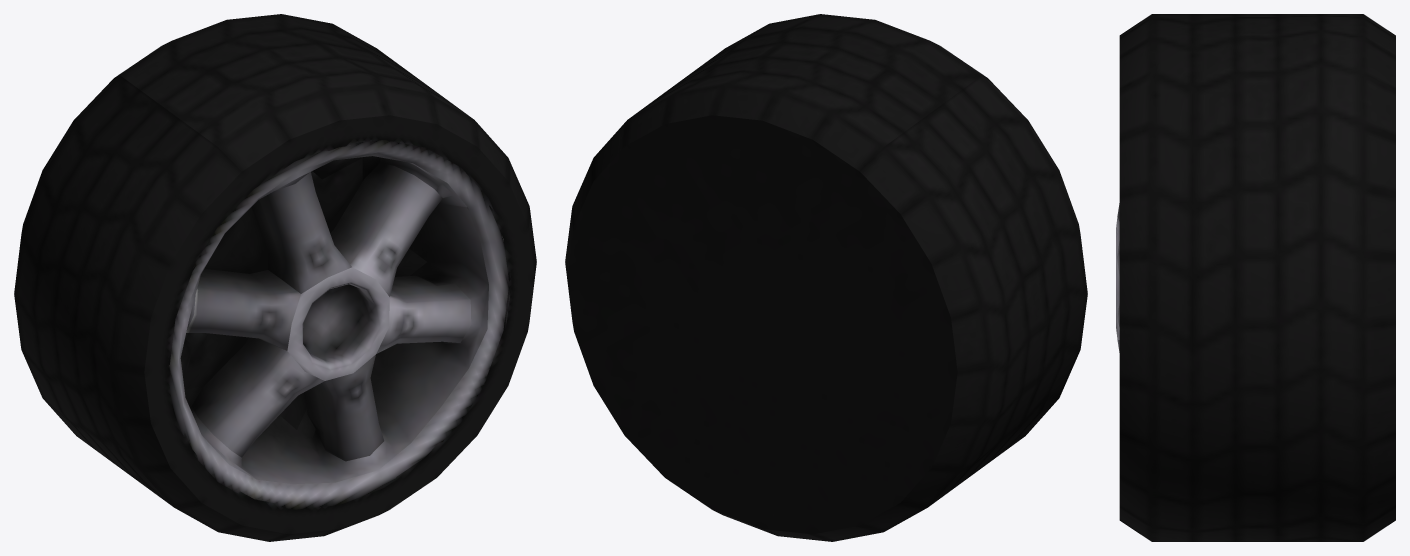
The model's file is wheel.fbx.
3 views of the same model, side by side, from view 1: azimuth 30°, elevation 25°; view 2: azimuth 150°, elevation 25°; view 3: azimuth 270°, elevation 25° (orthographic). The views are drawn at different scales.
Visible parts, largest first — view 1: Mesh11, Mesh12; view 2: Mesh11; view 3: Mesh11, Mesh12.
Boxes of the visible parts, box(x1,y1,x2,y2) form: Mesh11: box(14, 14, 536, 541); Mesh12: box(167, 140, 511, 509); Mesh11: box(565, 14, 1087, 541); Mesh11: box(1119, 14, 1395, 541); Mesh12: box(1116, 203, 1119, 352).
Size of the model in its own units: 0.924 by 0.924 by 0.4878.
2 materials, 2 textured.
